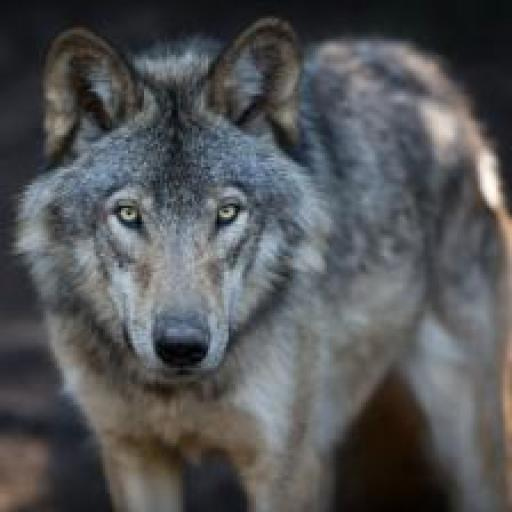wolf: (18, 25, 508, 503)
